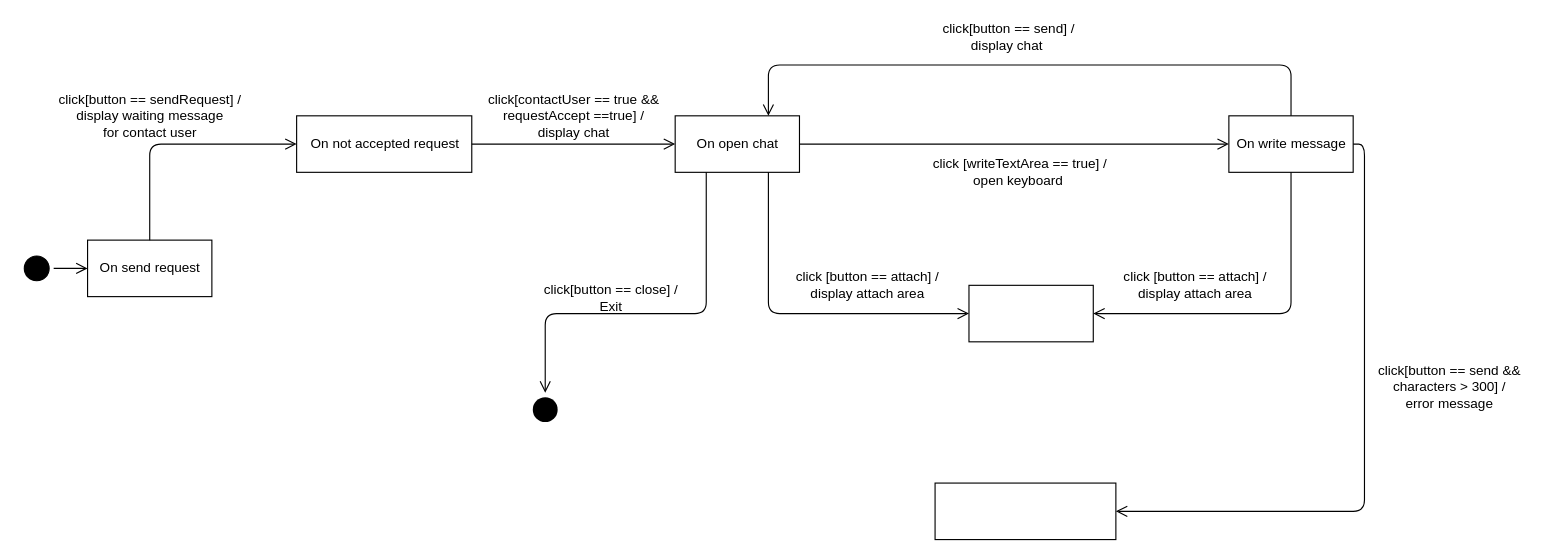
The diagram is 1565 pixels wide and 559 high, and some of its shapes have lost their labels. The shapes that lost their labels are listed below. From the top down, each one's box as (x1, y1, x2, y2) in pixels, then its label:
(968, 284, 1093, 342): On attach media
(934, 482, 1116, 540): On display error message
